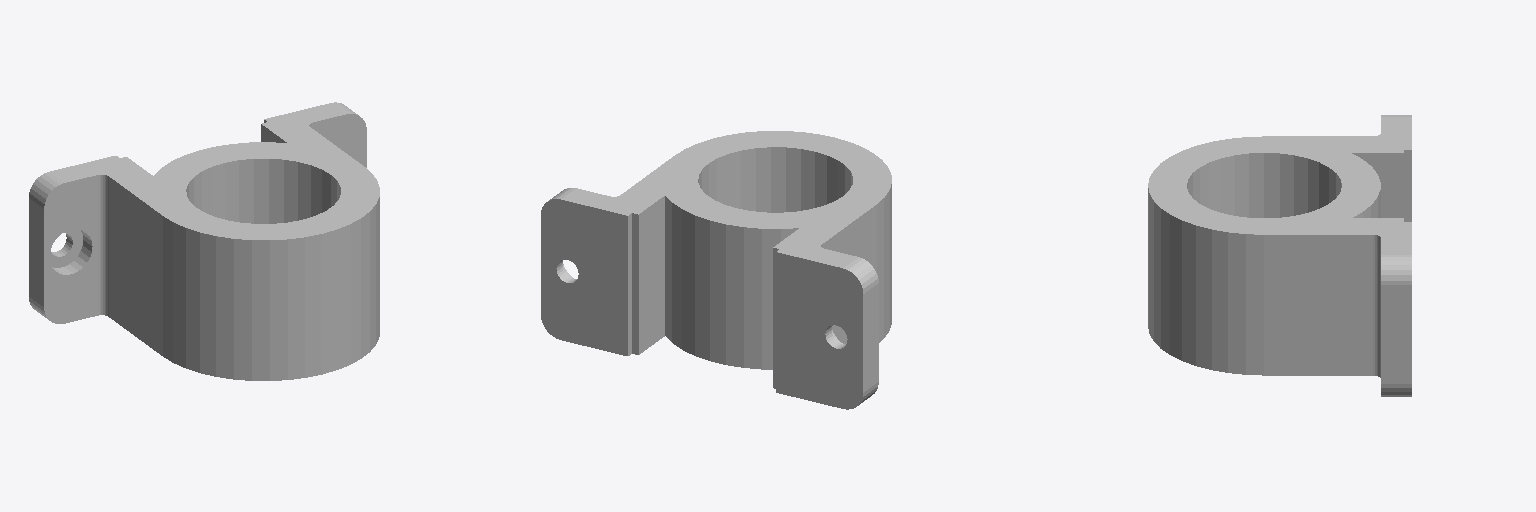
Rendered from Bride.obj.
The picture shows the model from 3 angles: view 1: azimuth 30°, elevation 25°; view 2: azimuth 150°, elevation 25°; view 3: azimuth 270°, elevation 25°; orthographic projection.
Parts seen in each view (by area): view 1: Bride.001; view 2: Bride.001; view 3: Bride.001.
Part boxes in pixels (x1,y1,x2,y2): Bride.001: (29,102,379,380); Bride.001: (541,131,891,409); Bride.001: (1148,115,1411,396).
Bounding box in the file's own units: 0.048 × 0.02 × 0.034.